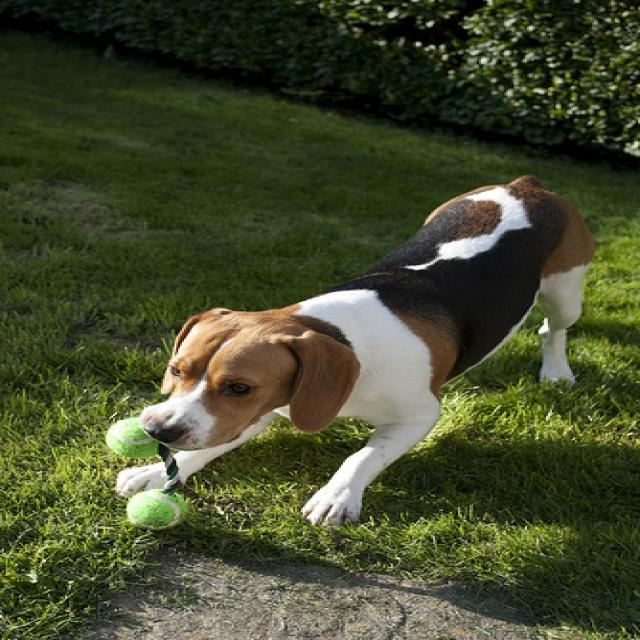dog-beagle: (96, 168, 606, 527)
